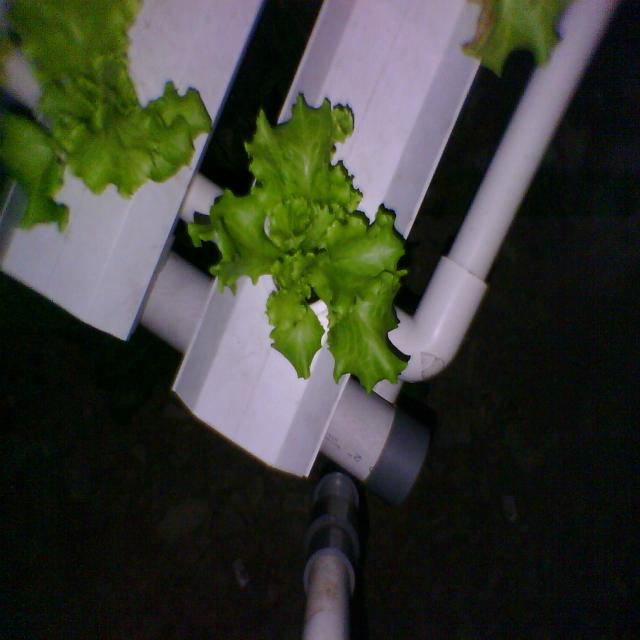FN: (186, 84, 418, 411), (0, 0, 218, 239)
